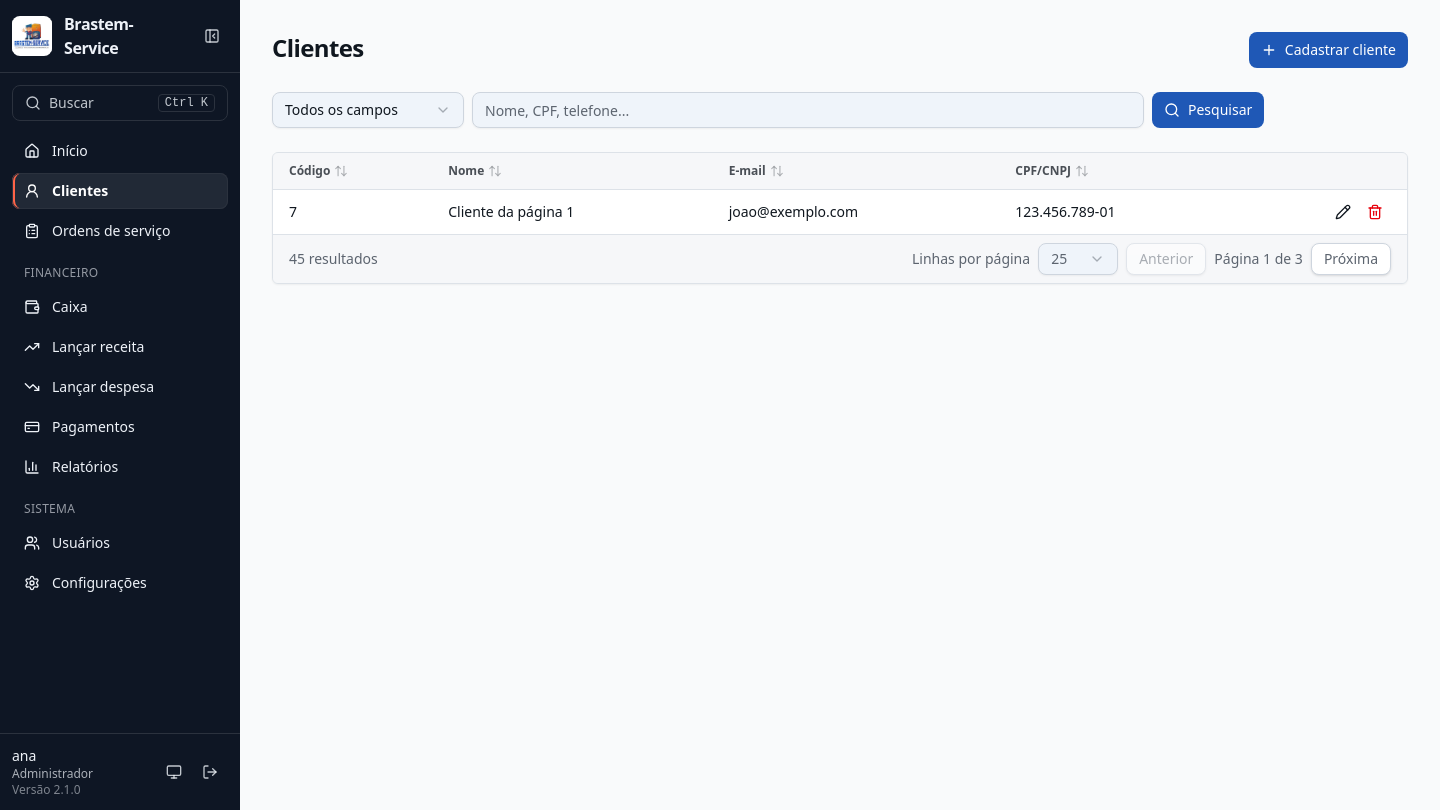
Test: Clientes: lista › pagina no servidor e guarda a página na URL
Expected: the text "Página 1 de 3" is shown, [1214,248,1303,268]
Click the button "Próxima": click(1351, 258) [1311,242,1391,274]
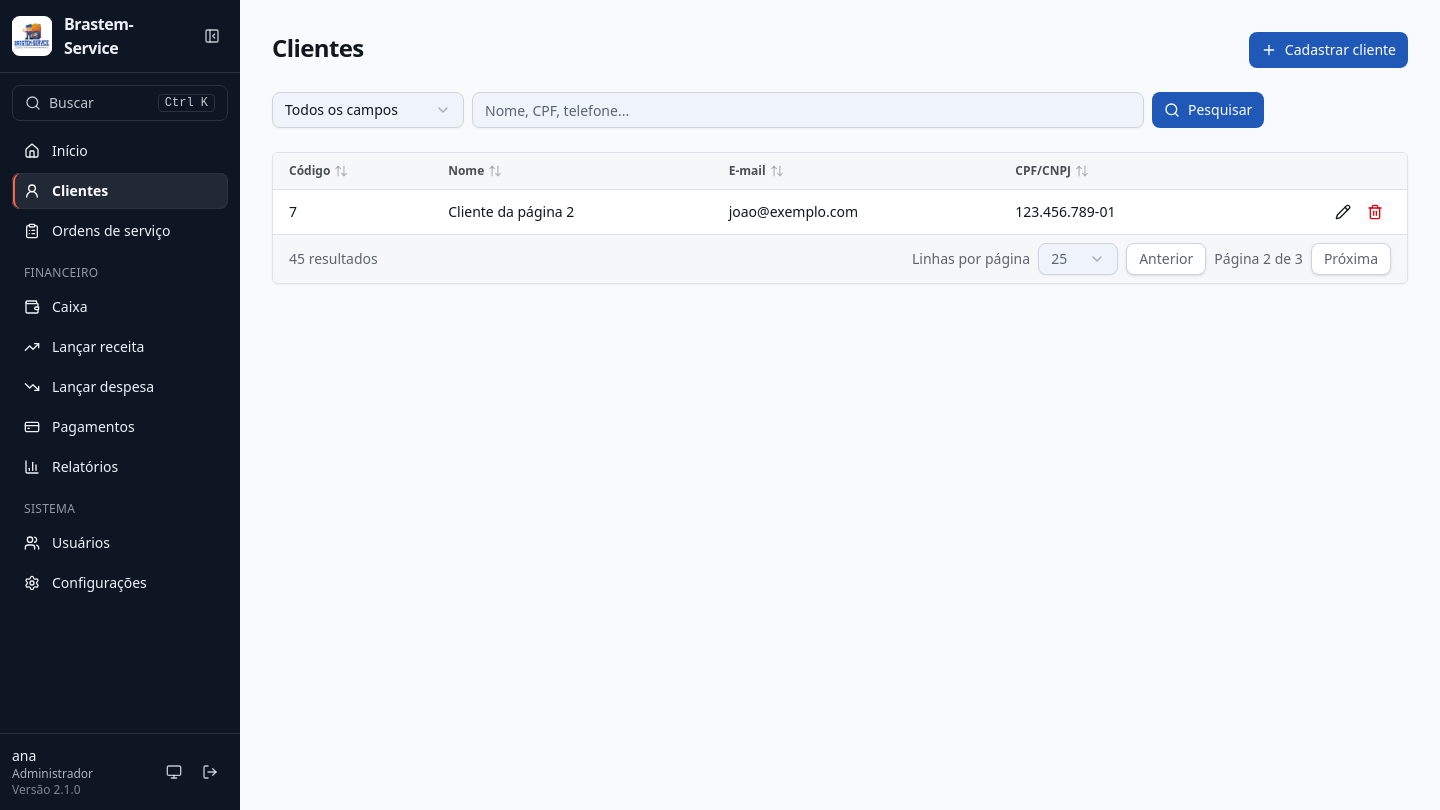
Now the text "Cliente da página 2" is shown, box [436,189,717,234]
